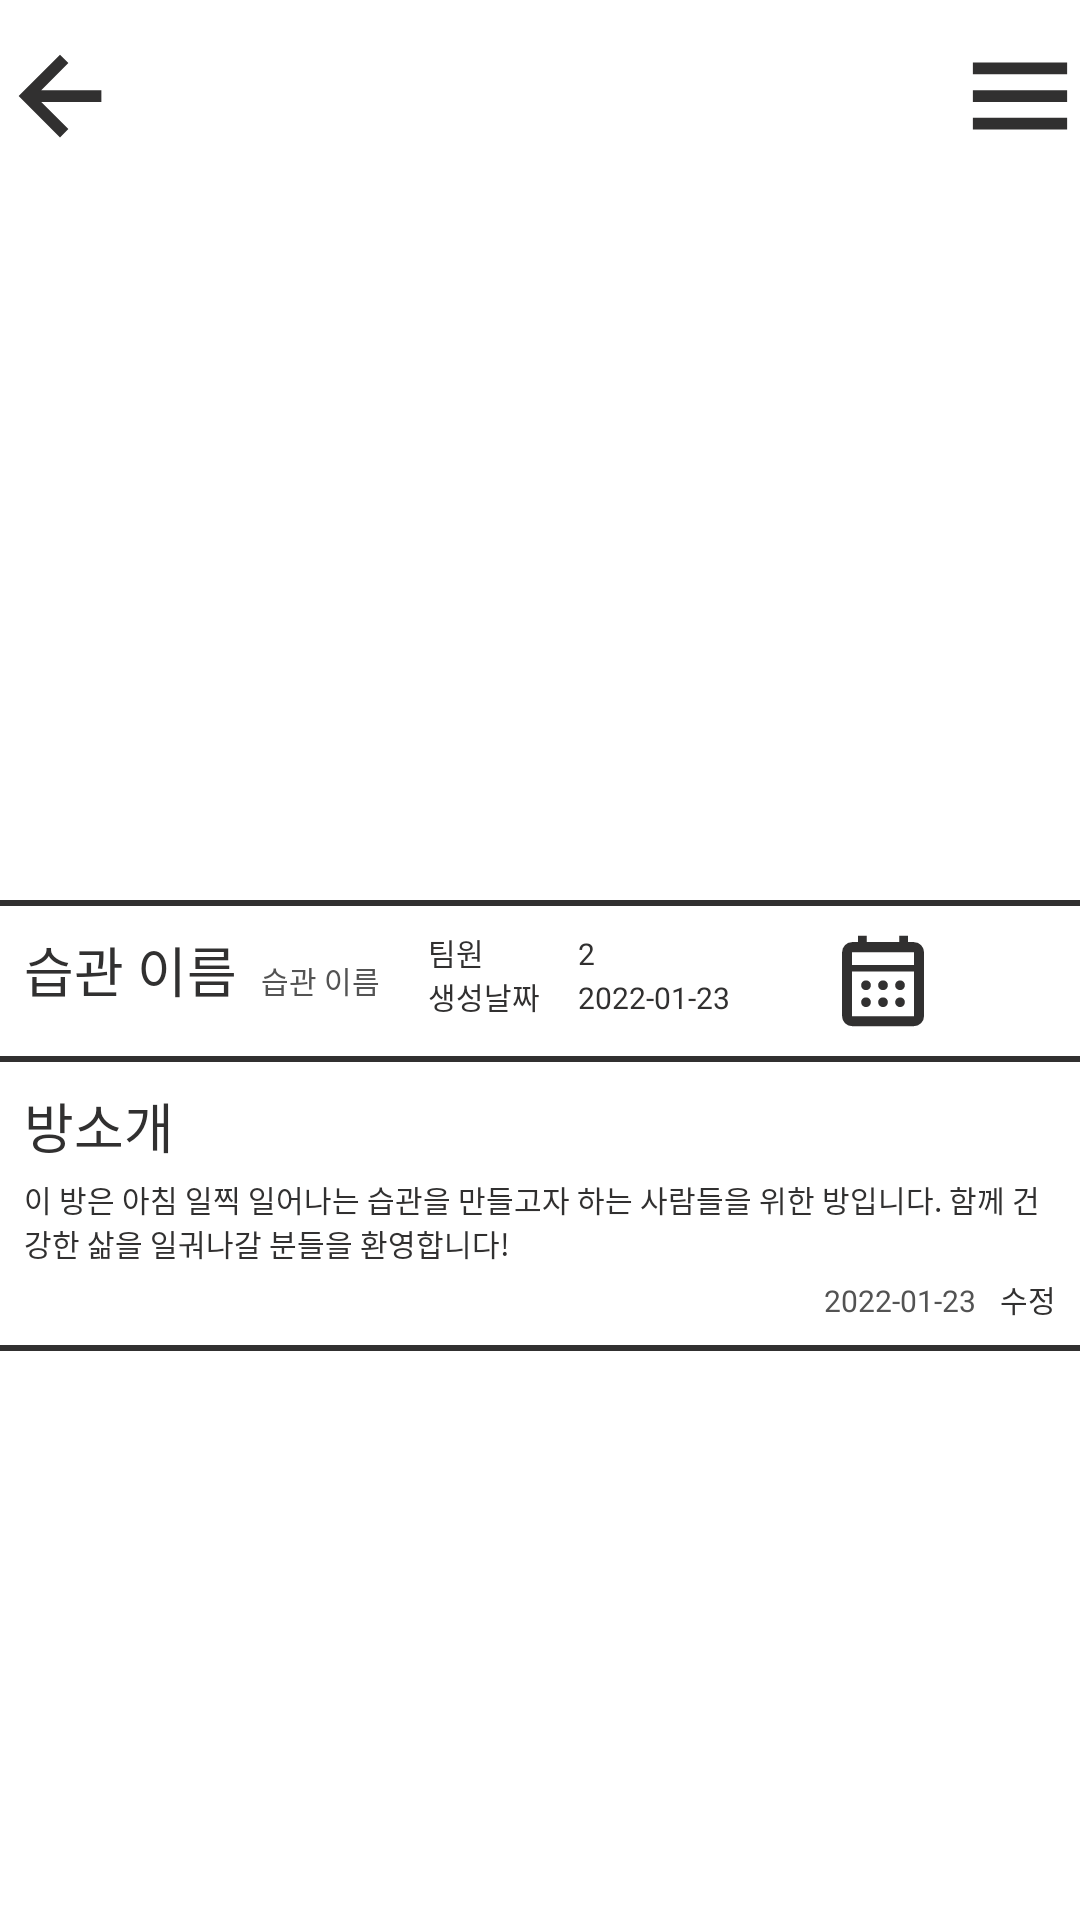

Locate icon controls on the screen. Image size 1080*1920, boxes as (x1, y1, x2, y2).
arrow back: (19, 55, 102, 138)
calendar month: (842, 935, 924, 1027)
menu: (972, 62, 1068, 130)
